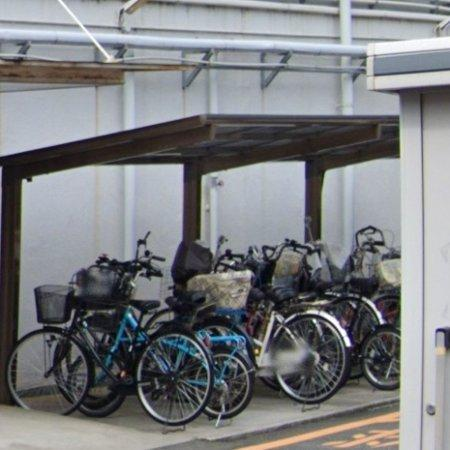bicycles: (6, 286, 211, 427)
